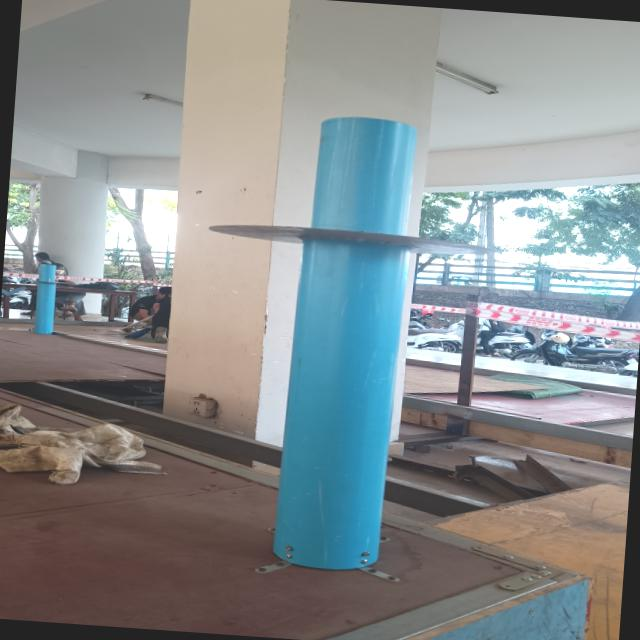pole: (190, 100, 526, 368)
